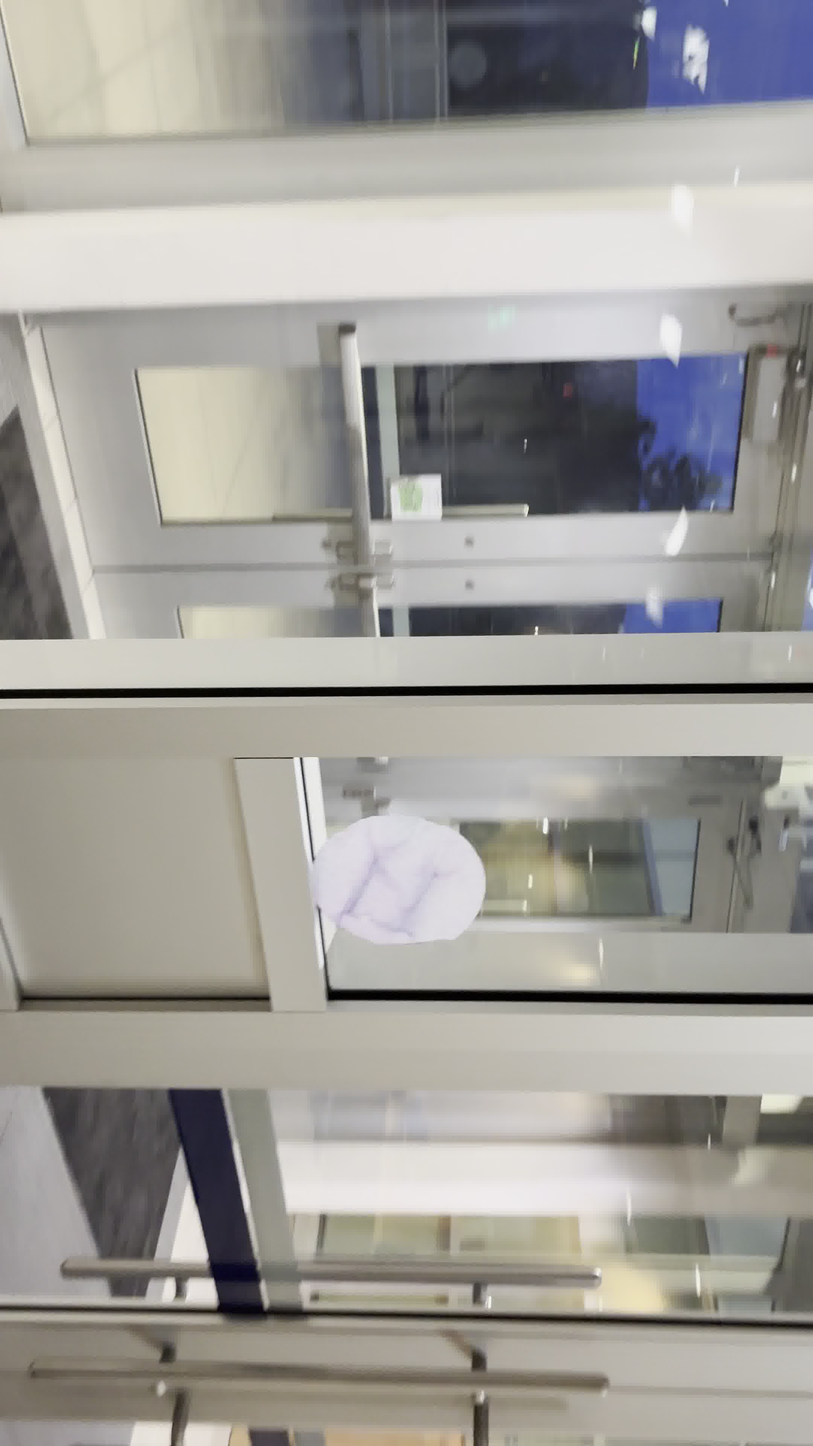Target: (300, 806, 489, 947)
